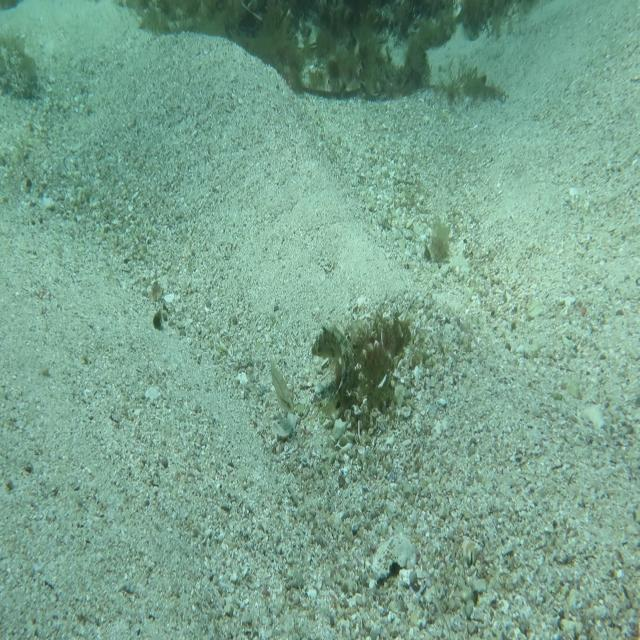BEND: (310, 315, 358, 427)
female: (268, 349, 298, 421)
nest: (296, 310, 409, 442)
vegetation: (110, 0, 516, 45), (236, 50, 415, 107), (425, 225, 453, 278)
